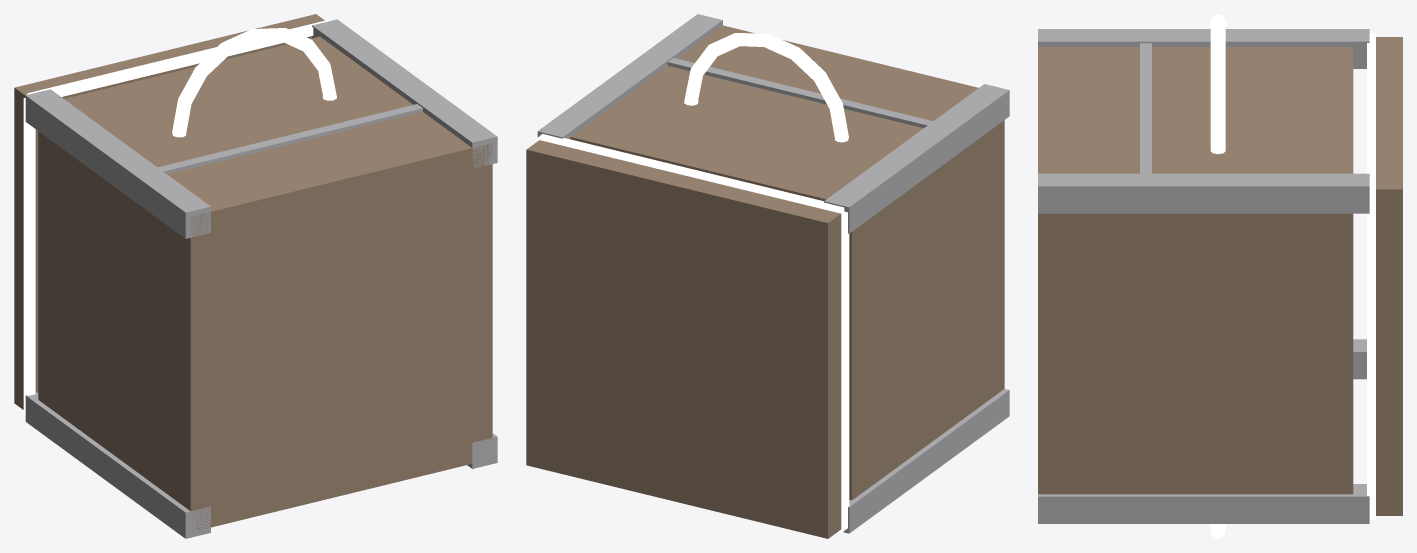
File: crate_legendary.glb
The picture shows the model from 3 angles, left to right: view 1: azimuth 30°, elevation 25°; view 2: azimuth 150°, elevation 25°; view 3: azimuth 270°, elevation 25°; orthographic projection. The views are drawn at different scales.
Visible parts, largest first — view 1: crate_body, lid_q3, seam_left, seam_back, lid_q1, lid_q4; view 2: crate_body, lid_q3, lid_q1, lid_q4, lid_q2, seam_left, seam_back; view 3: crate_body, lid_q4, lid_q2, seam_right, lid_q3, seam_back.
Part boxes in pixels (x1,y1,x2,y2): crate_body: (25, 19, 497, 538); lid_q3: (14, 51, 179, 254); seam_left: (23, 97, 35, 414); seam_back: (27, 19, 330, 96); lid_q1: (14, 245, 38, 409); lid_q4: (165, 14, 324, 70); crate_body: (537, 14, 1009, 533); lid_q3: (677, 177, 841, 380); lid_q1: (677, 344, 841, 538); lid_q4: (526, 140, 689, 343); lid_q2: (526, 307, 677, 501); seam_left: (841, 211, 849, 530); seam_back: (539, 134, 844, 213); crate_body: (1038, 14, 1369, 538); lid_q4: (1376, 113, 1402, 352); lid_q2: (1376, 352, 1402, 515); seam_right: (1367, 189, 1375, 517); lid_q3: (1376, 37, 1402, 112); seam_back: (1367, 33, 1375, 189).
Bounding box in the file's own units: 1.24 × 1.86 × 1.22.
